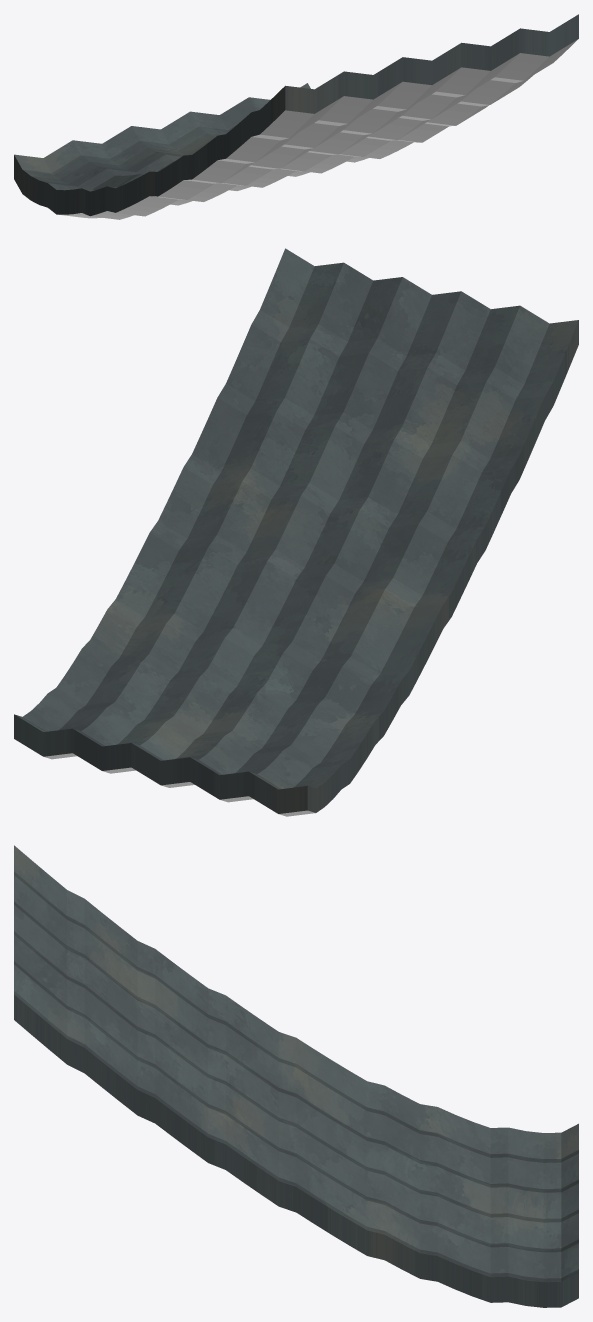
The model's file is EastRoof_Straight_2m.fbx.
3 views of the same model, one above another, from view 1: azimuth 30°, elevation 25°; view 2: azimuth 150°, elevation 25°; view 3: azimuth 270°, elevation 25° (orthographic). The views are drawn at different scales.
Visible parts, largest first — view 1: EastRoof_Straight_2m; view 2: EastRoof_Straight_2m; view 3: EastRoof_Straight_2m.
Part boxes in pixels (bbox=[...]): EastRoof_Straight_2m: bbox=[14, 14, 578, 219]; EastRoof_Straight_2m: bbox=[14, 248, 578, 816]; EastRoof_Straight_2m: bbox=[14, 845, 578, 1307].
Bounding box in the file's own units: 2 × 2.03 × 3.2.
Materials: 2 (1 with a texture image).
